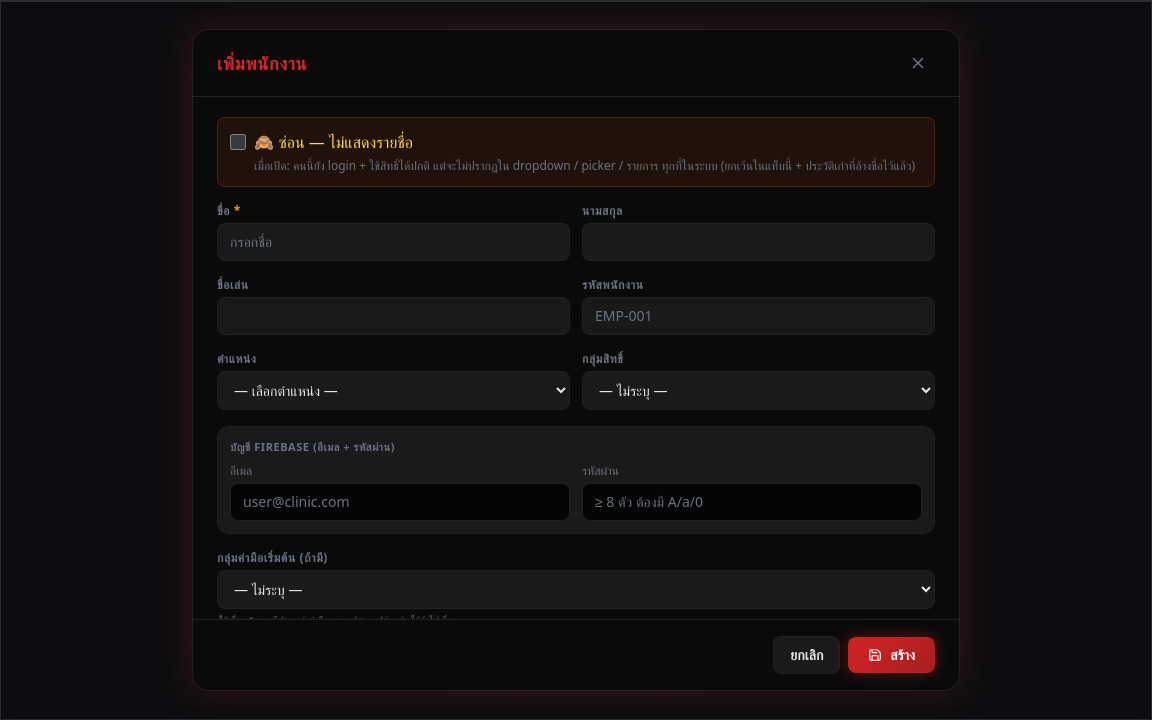
it: StaffFormModal › SM3: empty firstname rejected
Click the button "สร้าง": (892, 655) 848,637 -> 935,673
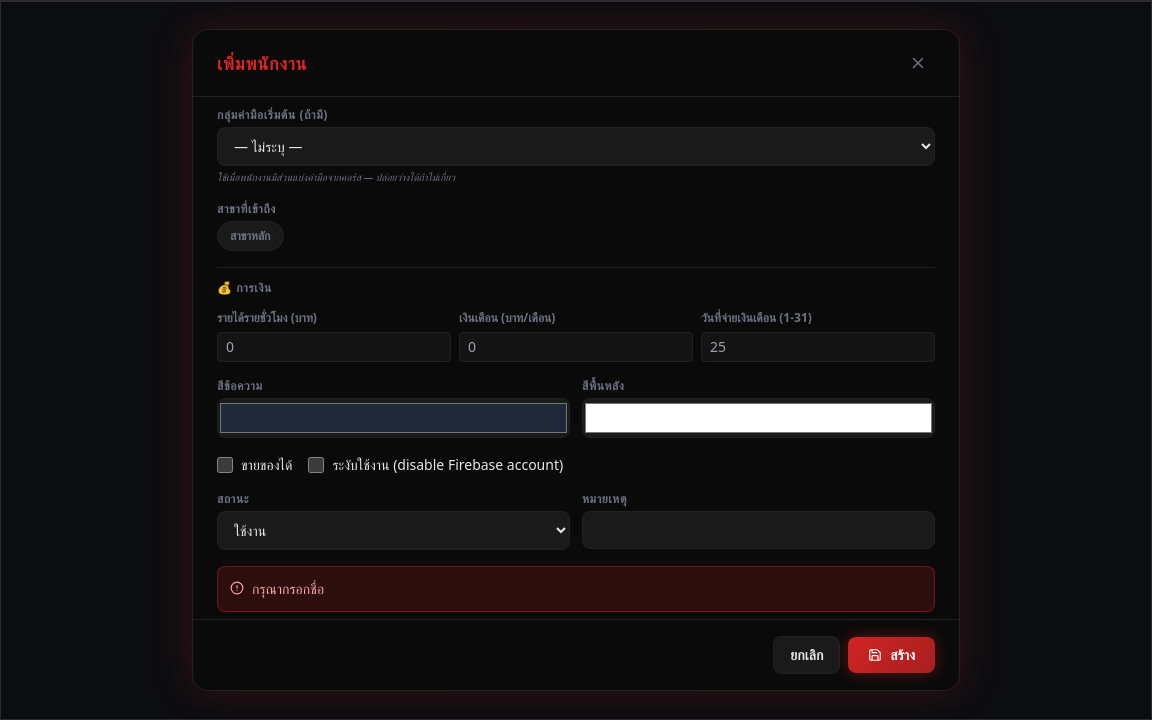
Result: the text "กรุณากรอกชื่อ" is shown at 252,579 -> 324,599
